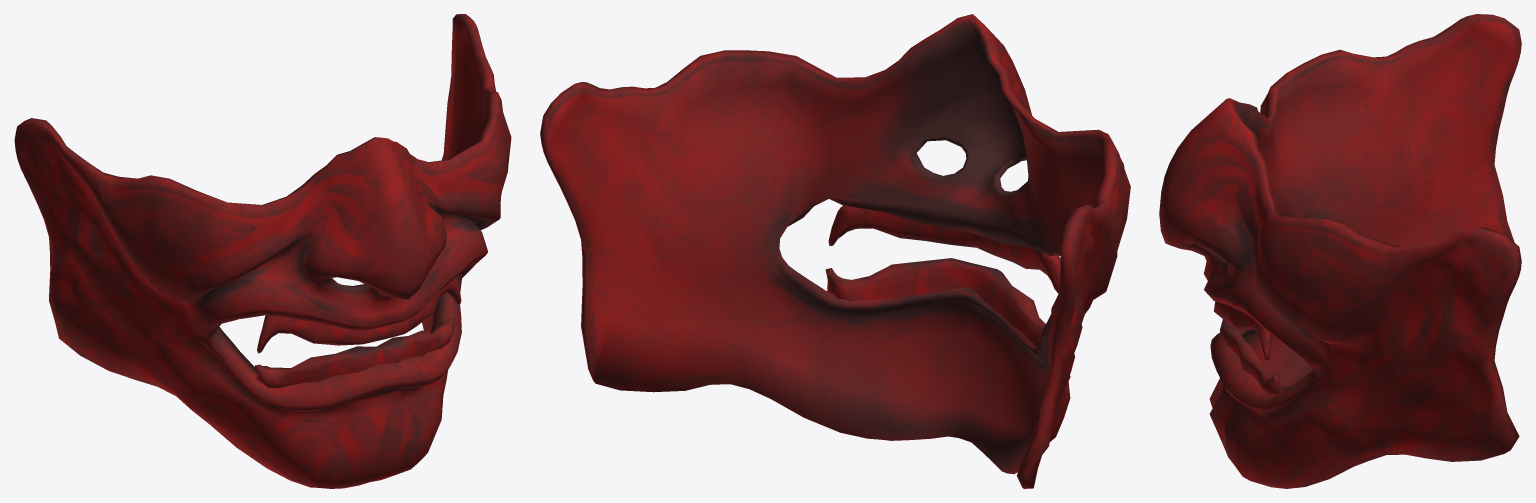
The model's file is menpo_mask.glb.
The picture shows the model from 3 angles, left to right: view 1: azimuth 30°, elevation 25°; view 2: azimuth 150°, elevation 25°; view 3: azimuth 270°, elevation 25°; orthographic projection. The views are drawn at different scales.
Parts seen in each view (by area): view 1: Mask_low; view 2: Mask_low; view 3: Mask_low.
Part boxes in pixels (left/top/right/bottom): Mask_low: left=14, top=14, right=511, bottom=488; Mask_low: left=540, top=14, right=1130, bottom=488; Mask_low: left=1159, top=14, right=1521, bottom=488.
Size of the model in its own units: 0.2021 by 0.1523 by 0.137.
Materials: 1 (1 with a texture image).
